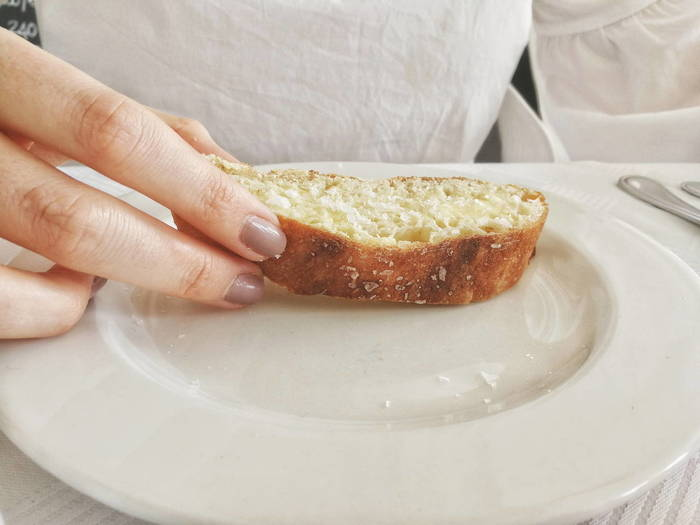slice of bread: (272, 176, 574, 293)
